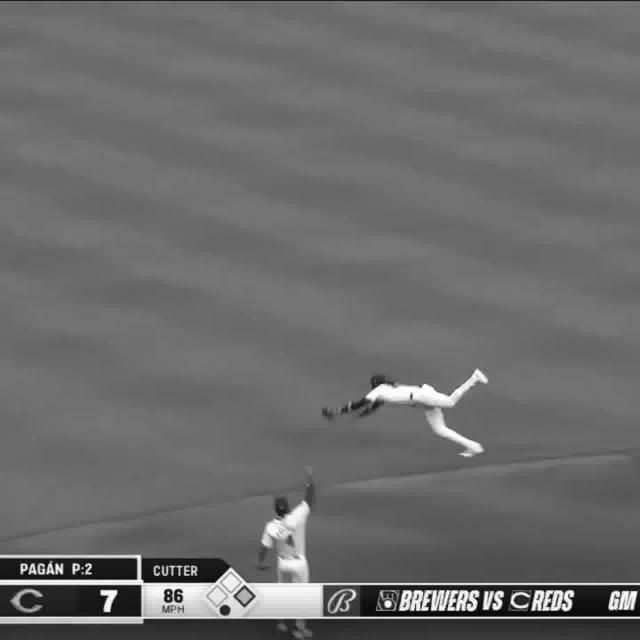baseball_glove: (322, 409, 338, 427)
shoe: (469, 365, 491, 387), (458, 446, 486, 460)
